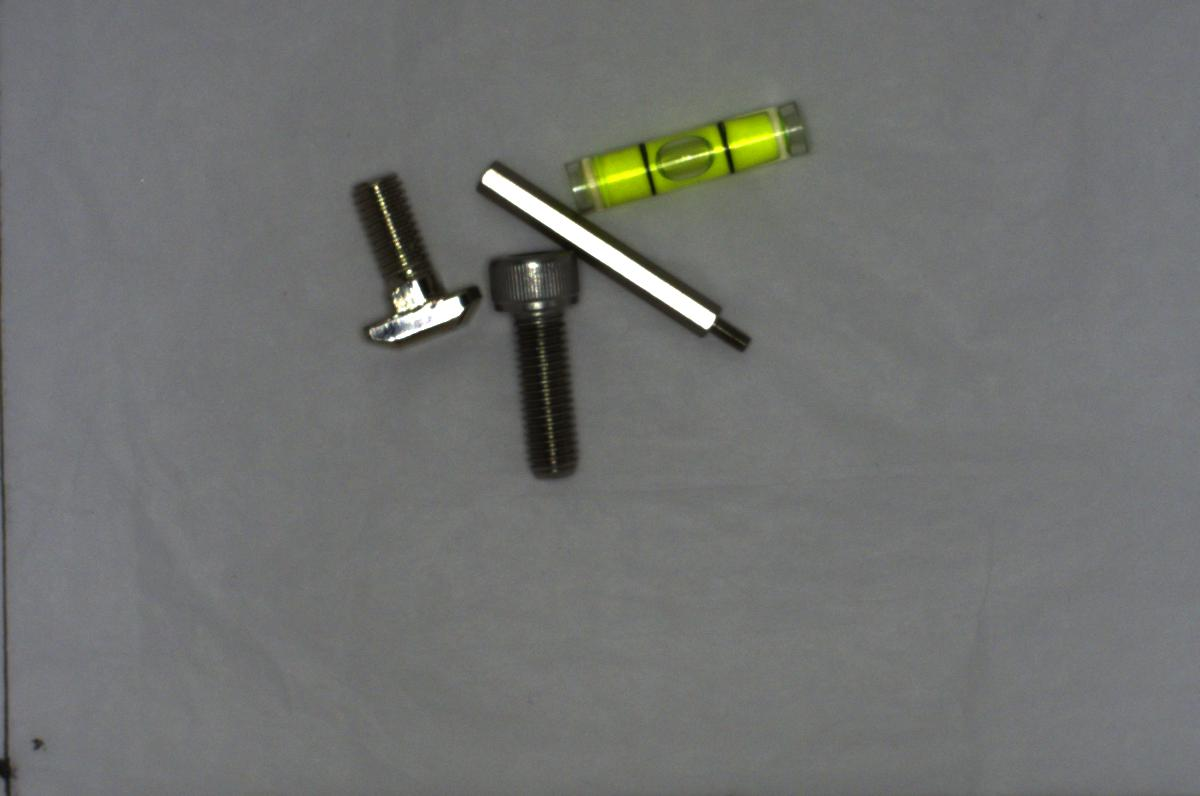Hexagon screw: (481, 241, 582, 487)
Hexagonal steel column: (475, 162, 758, 360)
Horizontal bubble: (561, 99, 818, 209)
T-shaped screw: (338, 161, 482, 350)
